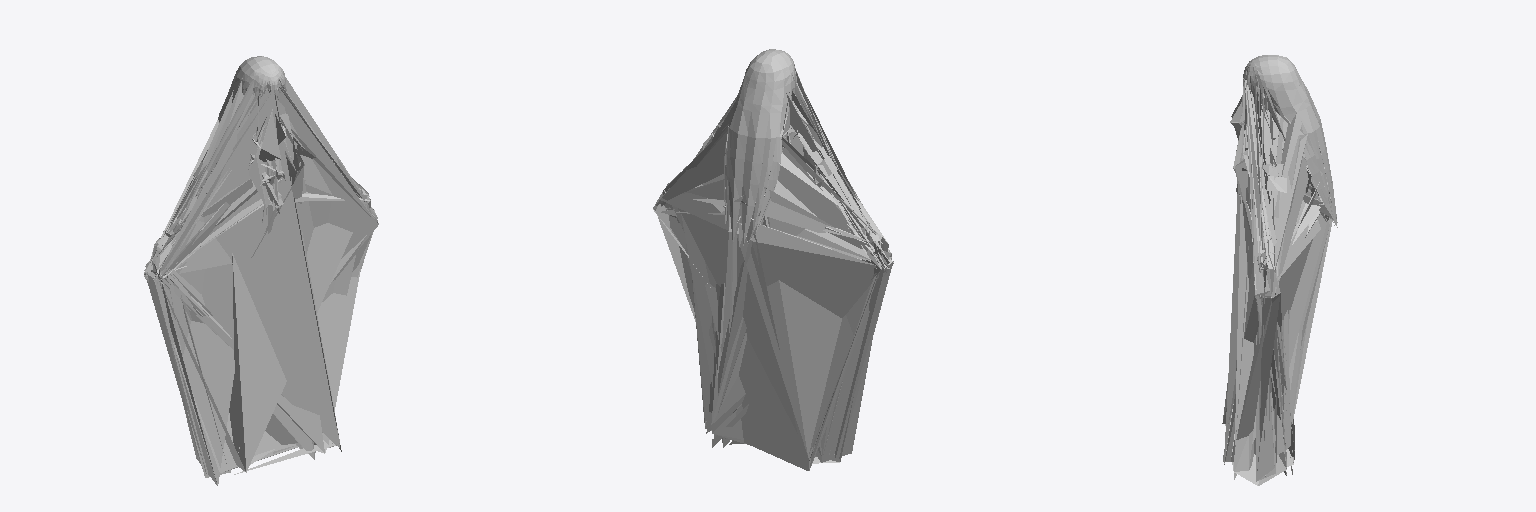
3 views of the same model, side by side, from view 1: azimuth 30°, elevation 25°; view 2: azimuth 150°, elevation 25°; view 3: azimuth 270°, elevation 25° (orthographic).
Parts seen in each view (by area): view 1: Model001_5_rdmobj00_1.0_0.0_0.0, Model001_5_chouundar2mptchouunface1_1.0_0.0_0.0; view 2: Model001_5_rdmobj00_1.0_0.0_0.0, Model001_5_chouundar2mptchouunface1_1.0_0.0_0.0; view 3: Model001_5_rdmobj00_1.0_0.0_0.0, Model001_5_chouundar2mptchouunface1_1.0_0.0_0.0.
Boxes of the visible parts, x1,y1,x2,y2 form: Model001_5_rdmobj00_1.0_0.0_0.0: [144, 57, 378, 485]; Model001_5_chouundar2mptchouunface1_1.0_0.0_0.0: [218, 56, 286, 147]; Model001_5_rdmobj00_1.0_0.0_0.0: [653, 49, 893, 470]; Model001_5_chouundar2mptchouunface1_1.0_0.0_0.0: [724, 49, 796, 245]; Model001_5_rdmobj00_1.0_0.0_0.0: [1222, 56, 1337, 485]; Model001_5_chouundar2mptchouunface1_1.0_0.0_0.0: [1240, 55, 1334, 218].
Bounding box in the file's own units: 0.7942 × 1.3 × 0.339.